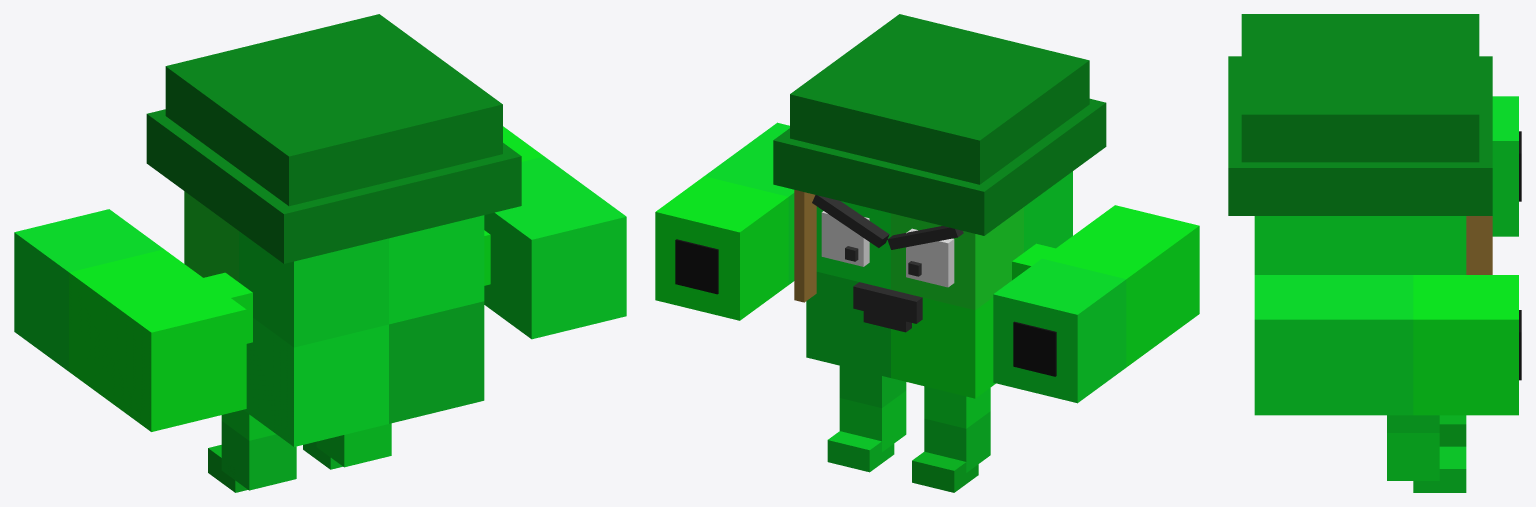
File: TurretYibYib.obj
3 views of the same model, side by side, from view 1: azimuth 30°, elevation 25°; view 2: azimuth 150°, elevation 25°; view 3: azimuth 270°, elevation 25° (orthographic). The views are drawn at different scales.
Parts seen in each view (by area): view 1: Body2, Body19, Body3, Body16, Body4, Body7, Body18, Body1, Body12, LeftLeg3, Body8, RightLeg2 (+3 smaller); view 2: Body2, Body3, Body18, Body14, Body19, Body17, Body8, Body10, Body16, Body7, Body6, RightLeg2 (+15 smaller); view 3: Body2, Body16, Body3, Body14, Body6, Body12, Body18, RightLeg2, RightLeg3, Body5, RightLeg1, LeftLeg1.
Boxes of the visible parts, x1,y1,x2,y2 form: Body2: (165,14,502,206); Body19: (69,249,246,431); Body3: (146,109,521,263); Body16: (484,156,626,339); Body4: (243,318,388,446); Body7: (239,231,388,347); Body18: (14,209,163,371); Body1: (389,301,484,423); Body12: (389,215,484,324); LeftLeg3: (221,421,296,490); Body8: (184,191,238,281); RightLeg2: (316,423,391,467); Body2: (790,14,1089,184); Body3: (773,98,1106,235); Body18: (993,258,1126,403); Body14: (655,176,788,320); Body19: (1042,205,1199,367); Body17: (891,297,995,398); Body8: (891,207,1023,310); Body10: (806,272,890,377); Body16: (704,122,794,284); Body7: (1024,171,1072,252); Body6: (816,201,890,289); RightLeg2: (839,391,906,451); Body2: (1241,14,1479,162); Body16: (1254,275,1413,415); Body3: (1228,56,1492,215); Body14: (1413,275,1518,415); Body6: (1360,216,1466,274); Body12: (1254,216,1360,274); Body18: (1492,96,1518,236); RightLeg2: (1387,433,1439,480); RightLeg3: (1413,446,1466,492); Body5: (1466,216,1492,274); RightLeg1: (1387,415,1439,432); LeftLeg1: (1439,415,1466,446).
Size of the model in its own units: 2.1 by 1.73 by 1.17.
